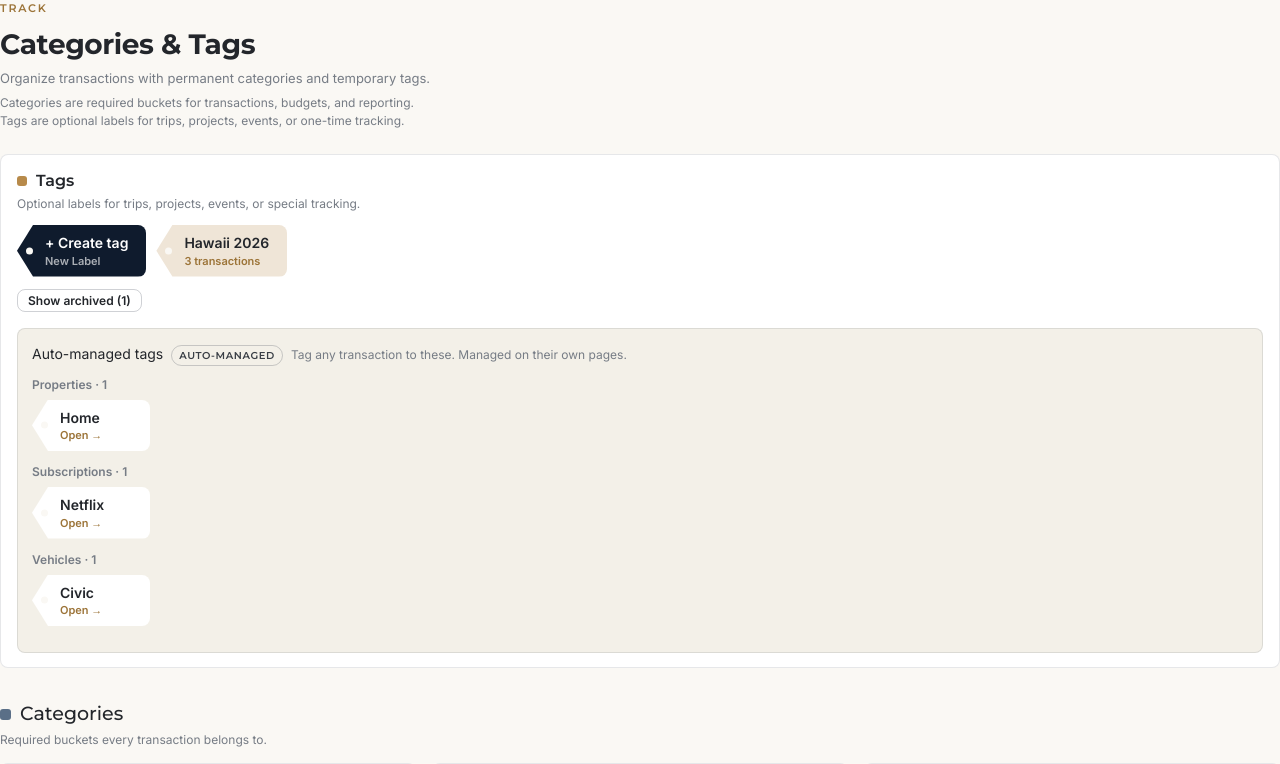
Test case: Categories page › shows and toggles archived tags, and lists auto-managed tags
Check: the text "Hawaii 2026" is shown, box [184,234,269,252]
Click the button "Show archived (1)" at (79, 300), box [17,288,142,312]
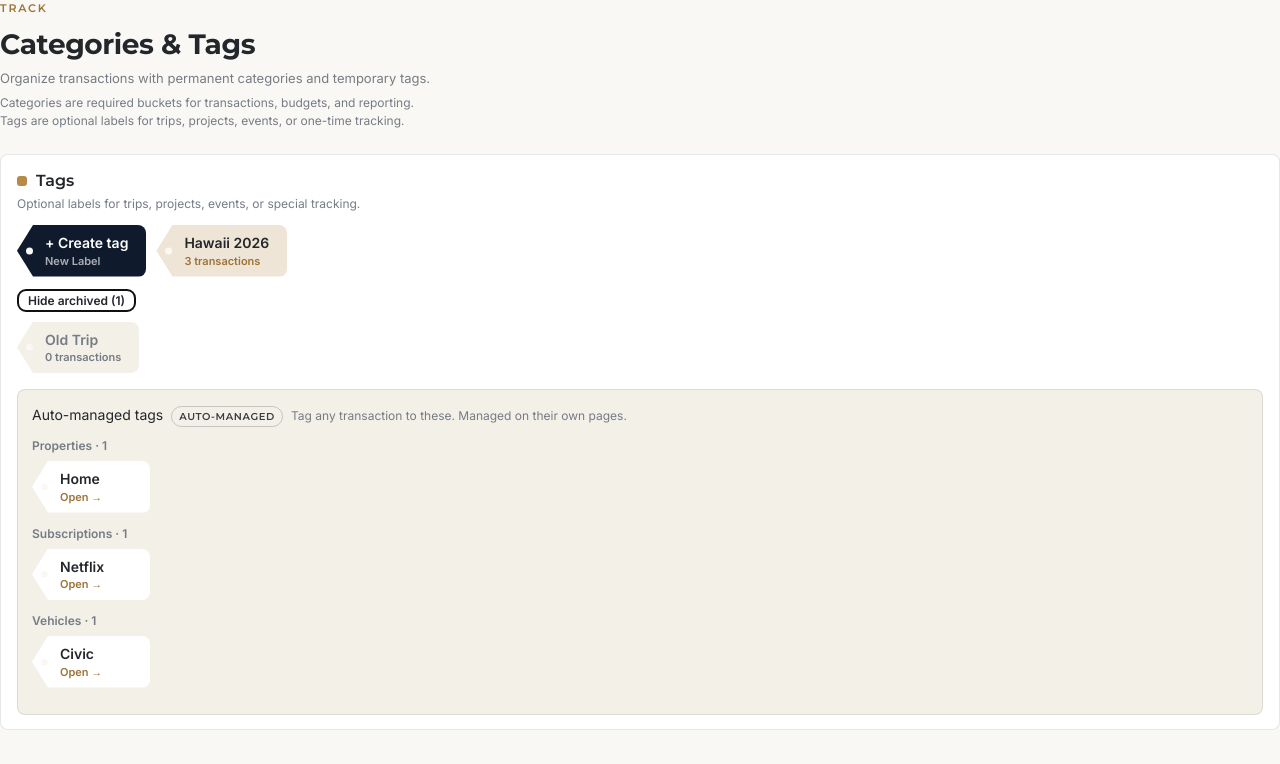
Check: the text "Civic" is shown, box [60,645,94,662]
Check: the text "Old Trip" is shown, box [45,330,98,348]
